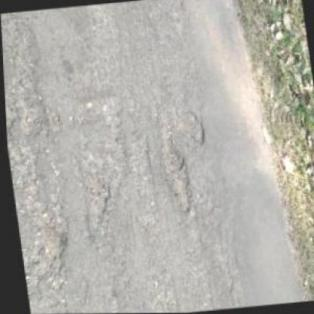Hueco: (157, 132, 192, 216), (26, 213, 70, 266), (81, 172, 113, 229), (16, 99, 43, 140), (182, 111, 205, 146)
